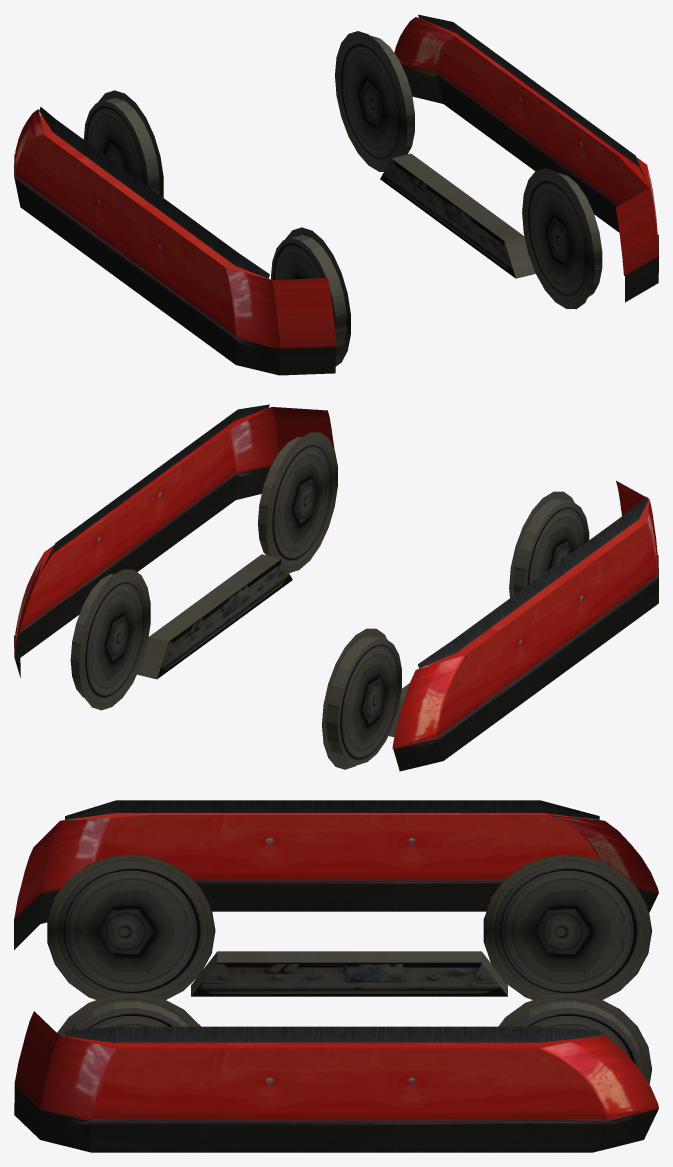
The model's file is bog2.obj.
The picture shows the model from 3 angles, top to bottom: view 1: azimuth 30°, elevation 25°; view 2: azimuth 150°, elevation 25°; view 3: azimuth 270°, elevation 25°; orthographic projection. The views are drawn at different scales.
Parts seen in each view (by area): view 1: BOG; view 2: BOG; view 3: BOG.
Boxes of the visible parts, x1,y1,x2,y2 form: BOG: (14, 14, 658, 375); BOG: (14, 404, 658, 771); BOG: (14, 800, 658, 1152).
Bounding box in the file's own units: 2.49 × 0.7674 × 2.82.
Materials: 2 (2 with a texture image).
